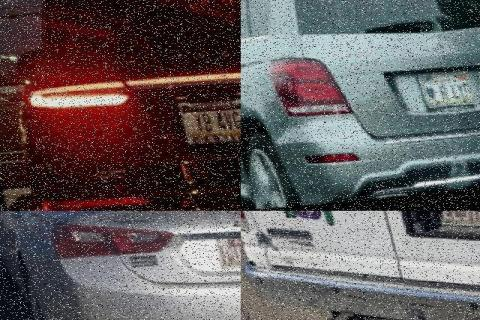LicensePlate: (169, 99, 238, 146), (410, 72, 467, 112), (206, 235, 238, 270), (422, 210, 478, 228)
